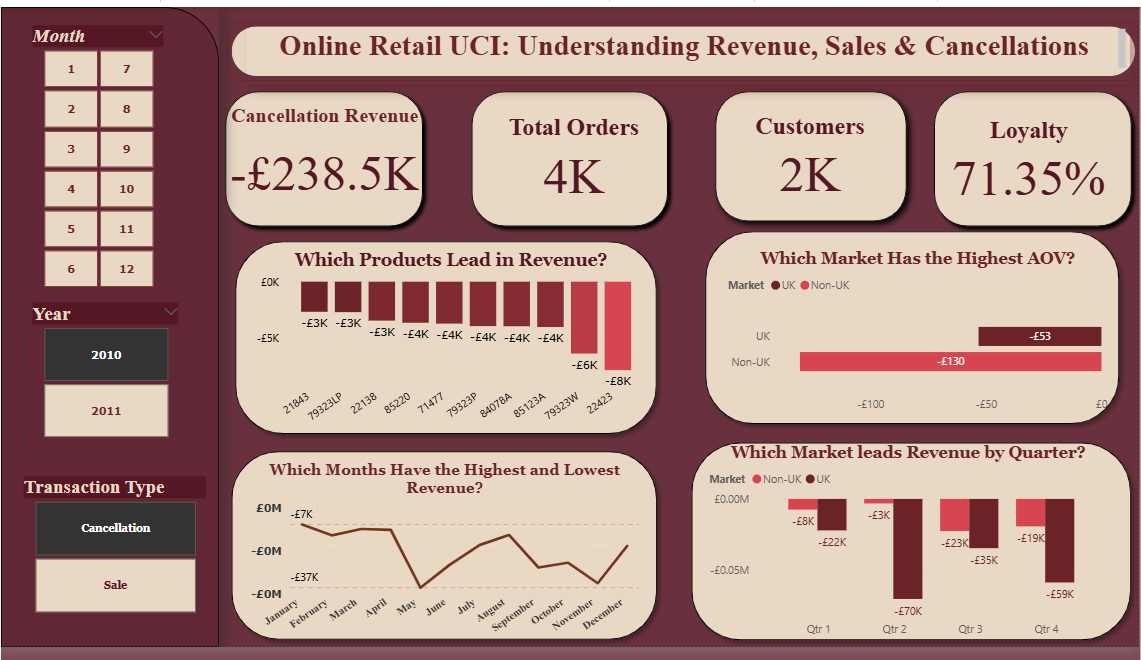

The page's visual inventory and layout, read from the dashboard file:
{"tool":"powerbi","page":{"name":"Page 1","canvas":[1280,720],"ordinal":0},"visuals":[{"type":"shape","box":[254.4,16.9,1025.9,66.1],"z":0},{"type":"shape","box":[254.4,254.4,491.9,234.7],"z":1000},{"type":"shape","box":[768,480.4,512,240.2],"z":2000},{"type":"shape","box":[520,85.7,238.9,170],"z":3000},{"type":"shape","box":[791.2,82.9,238.9,170],"z":4000},{"type":"shape","box":[243.1,85.7,240.3,170],"z":5000},{"type":"shape","box":[0,0,245.1,720],"z":6000},{"type":"cardVisual","fields":{"Data":["sales online_retail.revenue"]},"box":[238.9,109.6,250.2,127.9],"z":7000},{"type":"slicer","fields":{"Values":["sales online_retail.Month"]},"box":[22.5,15.5,172.9,306.4],"z":8000},{"type":"slicer","fields":{"Values":["sales online_retail.Year"]},"box":[22.5,327.4,189.7,163],"z":9000},{"type":"slicer","fields":{"Values":["sales online_retail.Transaction Type"]},"box":[12.6,522.8,230.5,164.4],"z":10000},{"type":"cardVisual","fields":{"Data":["sales online_retail.Total Orders"]},"box":[520,104,248.7,127.9],"z":11000},{"type":"cardVisual","fields":{"Data":["sales online_retail.Customers"]},"box":[785.6,102.6,248.7,129.3],"z":12000},{"type":"columnChart","title":"Which Products Lead in Revenue?","fields":{"Category":["sales online_retail.StockCode"],"Y":["sales online_retail.Top 5 Dynamic Revenue"]},"box":[282.5,272.6,446.9,215],"z":13000},{"type":"shape","box":[1040,85.7,240.3,170],"z":14000},{"type":"cardVisual","fields":{"Data":["sales online_retail.Repeat Customer Rate"]},"box":[1031.5,106.8,248.7,130.7],"z":15000},{"type":"shape","box":[250.7,491,496.2,229.7],"z":16000},{"type":"lineChart","title":"Which Months Have the Highest and Lowest Revenue?","fields":{"Y":["sales online_retail.revenue"],"Category":["sales online_retail.InvoiceDate.Variation.Date Hierarchy.Month"]},"box":[275.3,510.2,447.1,208.7],"z":17000},{"type":"shape","box":[782.8,243.1,483.4,234.7],"z":18000},{"type":"barChart","title":"Which Market Has the Highest AOV?","fields":{"Category":["sales online_retail.Market"],"Y":["sales online_retail.AOV"],"Series":["sales online_retail.Market"]},"box":[812.3,272.6,437.1,192.5],"z":19000},{"type":"clusteredColumnChart","title":"Which Market leads Revenue by Quarter?","fields":{"Y":["sales online_retail.revenue"],"Series":["sales online_retail.Market"],"Category":["sales online_retail.InvoiceDate.Variation.Date Hierarchy.Quarter"]},"box":[790.8,491,457.6,227.9],"z":20000},{"type":"textbox","box":[275.3,19.3,994.2,66.6],"z":21000}]}

Visuals, with their boxes in screenshot pixels (x1, y1, x2, y2), scaled from the page's 1280x720 canvas onto the 1141x660 screenshot:
shape: bbox=[227, 15, 1140, 76]
shape: bbox=[227, 233, 665, 448]
shape: bbox=[685, 440, 1140, 659]
shape: bbox=[464, 79, 676, 234]
shape: bbox=[705, 76, 918, 232]
shape: bbox=[217, 79, 431, 234]
shape: bbox=[0, 0, 218, 659]
cardVisual - sales online_retail.revenue: bbox=[213, 100, 436, 218]
slicer - sales online_retail.Month: bbox=[20, 14, 174, 295]
slicer - sales online_retail.Year: bbox=[20, 300, 189, 450]
slicer - sales online_retail.Transaction Type: bbox=[11, 479, 217, 630]
cardVisual - sales online_retail.Total Orders: bbox=[464, 95, 685, 213]
cardVisual - sales online_retail.Customers: bbox=[700, 94, 922, 213]
"Which Products Lead in Revenue?" columnChart: bbox=[252, 250, 650, 447]
shape: bbox=[927, 79, 1140, 234]
cardVisual - sales online_retail.Repeat Customer Rate: bbox=[919, 98, 1140, 218]
shape: bbox=[223, 450, 666, 659]
"Which Months Have the Highest and Lowest Revenue?" lineChart: bbox=[245, 468, 644, 659]
shape: bbox=[698, 223, 1129, 438]
"Which Market Has the Highest AOV?" barChart: bbox=[724, 250, 1114, 426]
"Which Market leads Revenue by Quarter?" clusteredColumnChart: bbox=[705, 450, 1113, 659]
textbox: bbox=[245, 18, 1132, 79]
